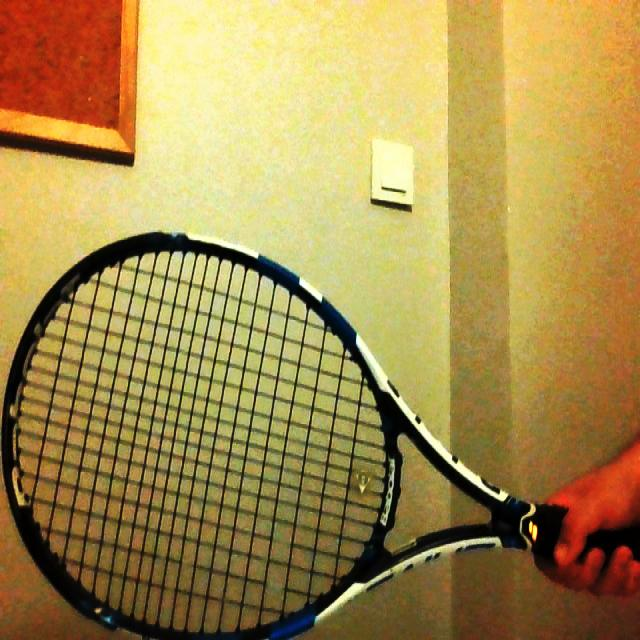TennisRacket: (0, 236, 639, 640)
